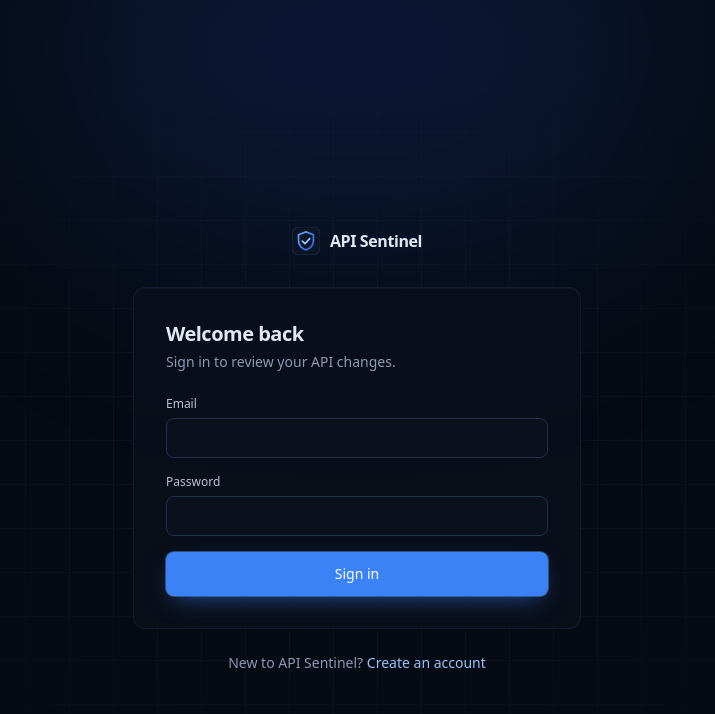
Test case: authentication flow › shows a clear message for wrong credentials
This screenshot has width=715, height=714.
Type "ada@example.com" into the field labelled "Email" at (357, 438), box [166,418,548,458]
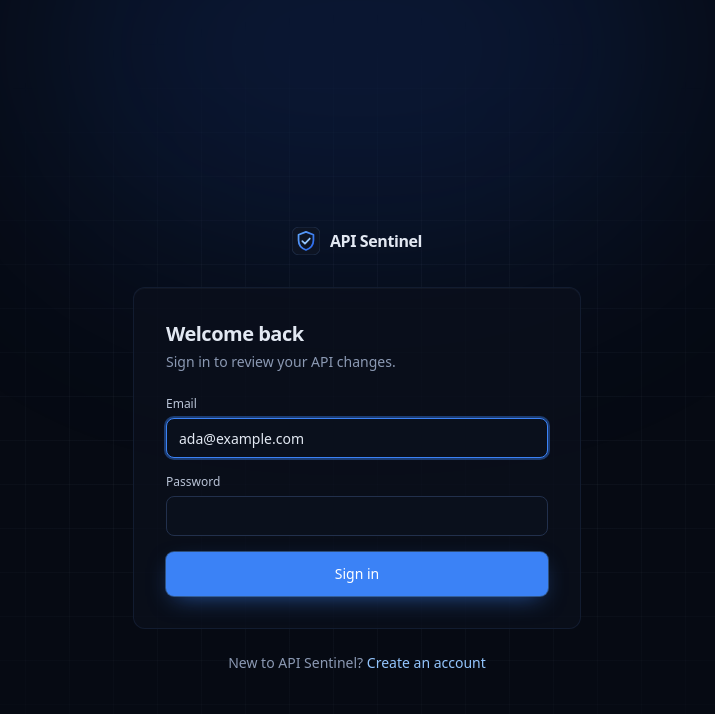
Type "Wrong-pass-1" into the password field labelled "Password" at (357, 516), box [166,496,548,536]
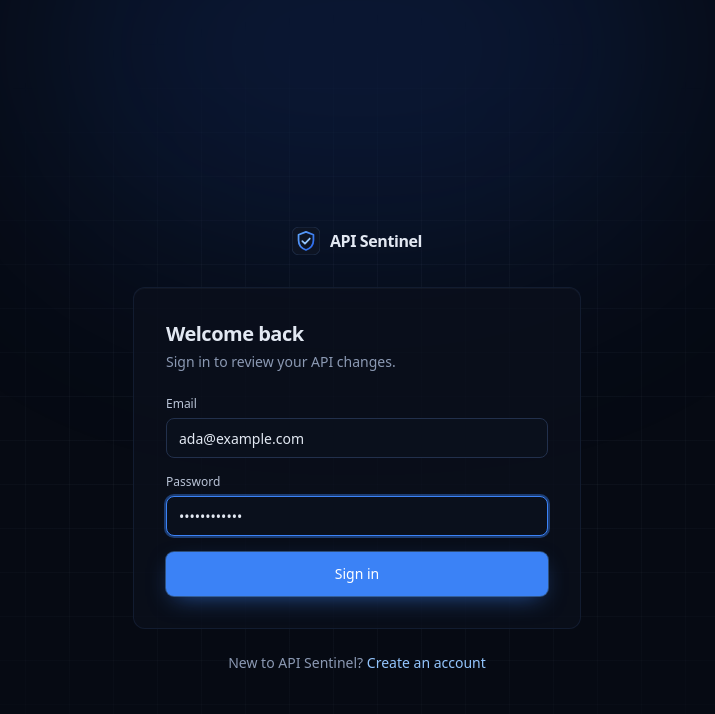
Click the button "Sign in" at (357, 574), box [166,552,548,596]
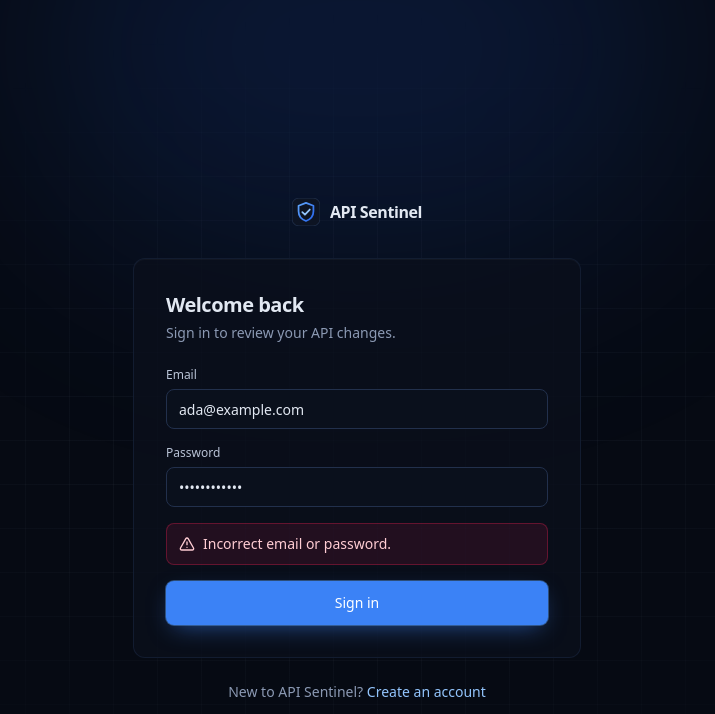
Result: the message reads "Incorrect email or password." at [203,534,391,553]
